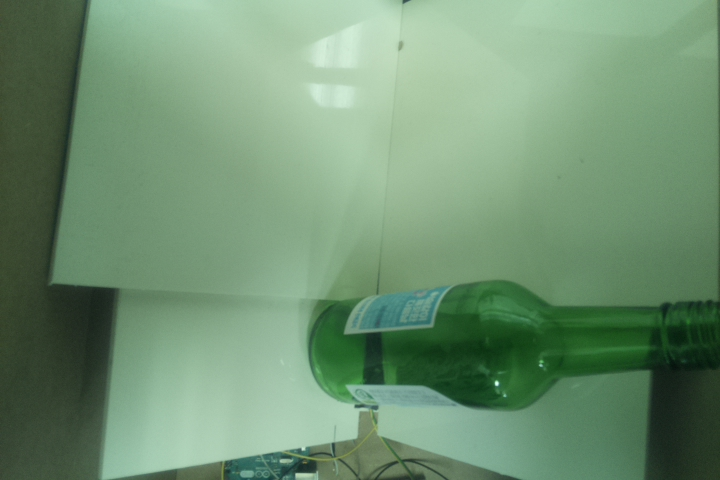soju: (308, 276, 720, 412)
